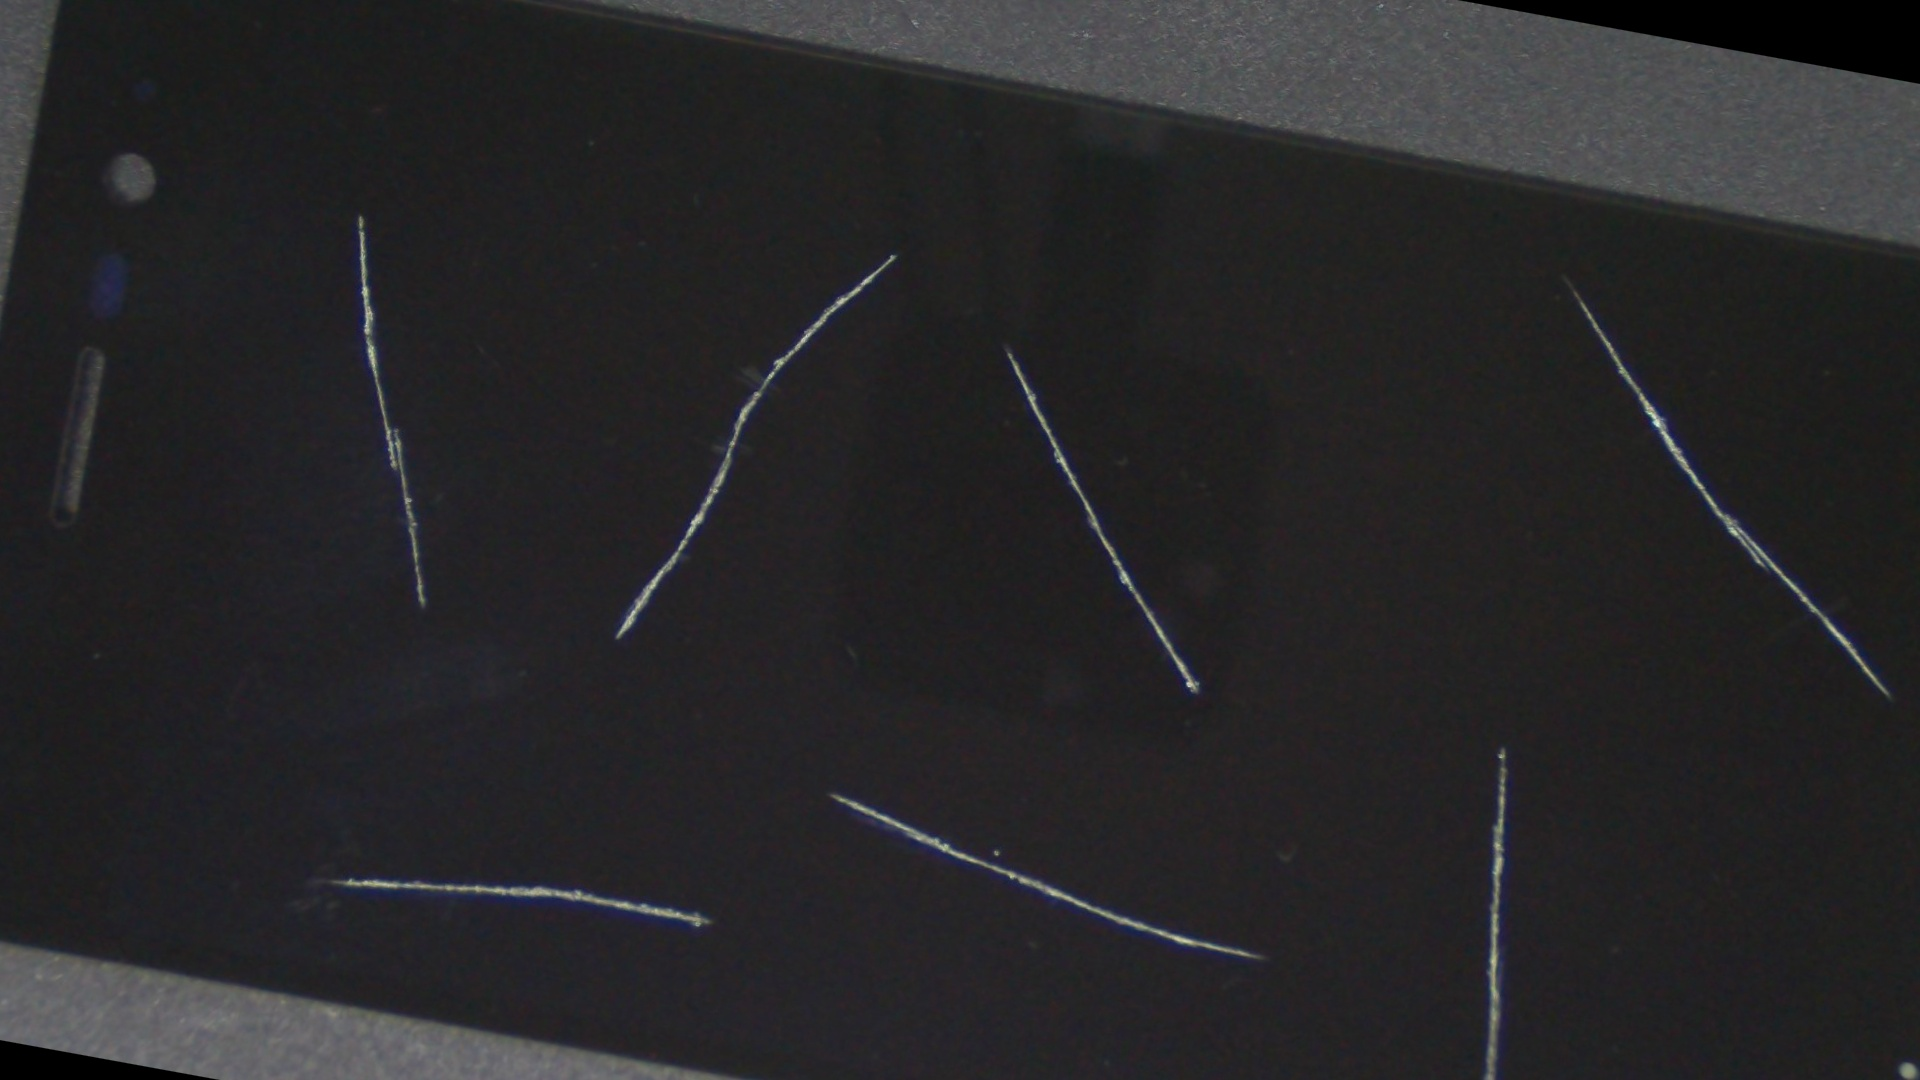oil: (638, 243, 1920, 1080), (284, 265, 1390, 1080), (446, 44, 1569, 651), (170, 314, 1036, 1080), (753, 7, 1920, 514), (404, 0, 1393, 510), (125, 0, 597, 450)
